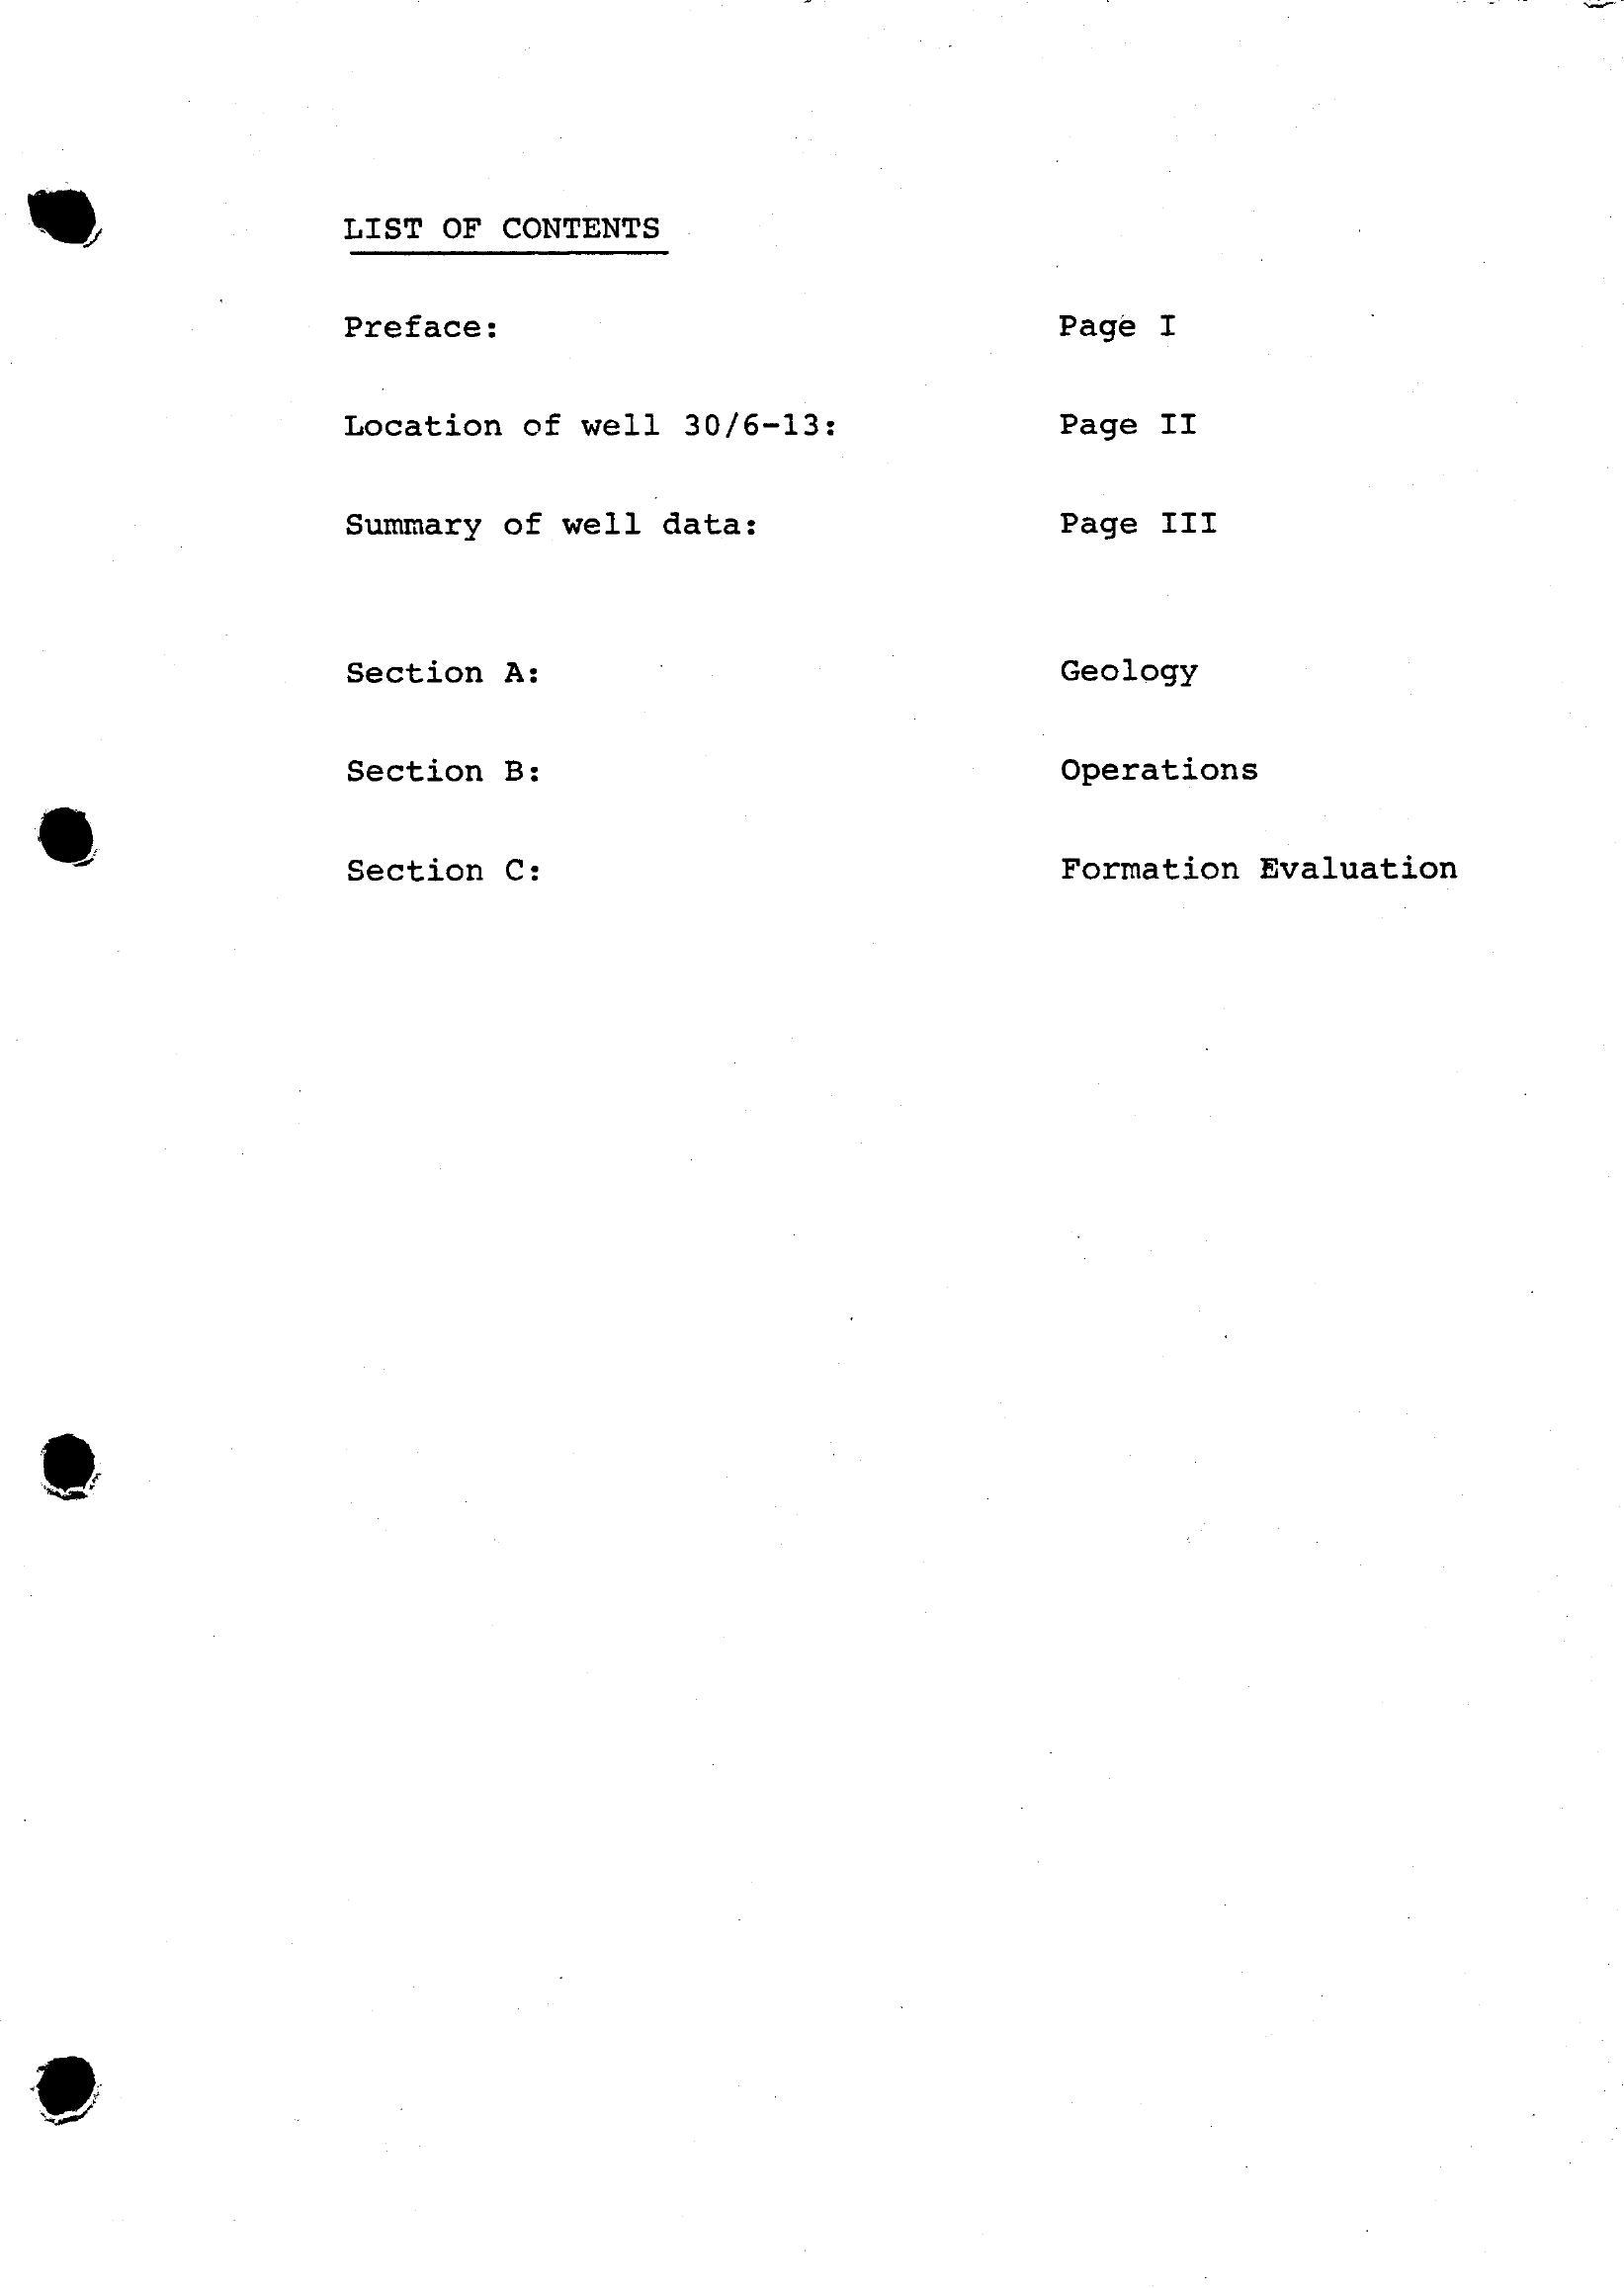text: (301, 146, 1519, 974)
